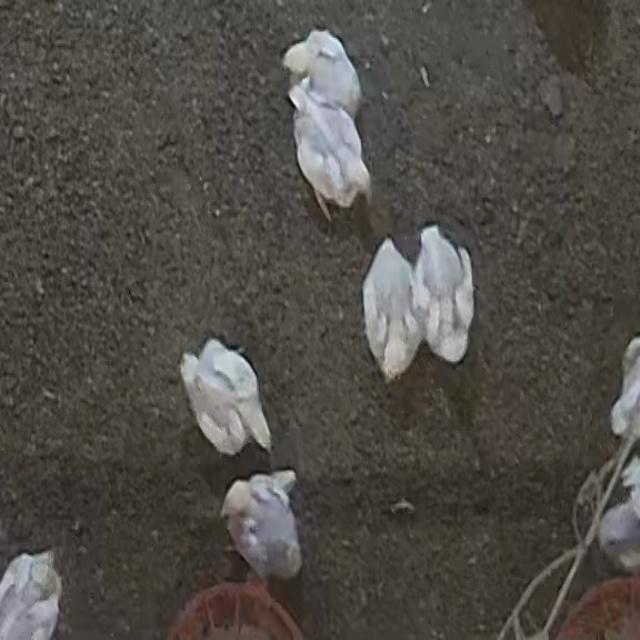chicken: (286, 97, 374, 215), (222, 469, 300, 583), (184, 342, 266, 450), (410, 223, 467, 362), (367, 240, 417, 386), (272, 33, 360, 106)
